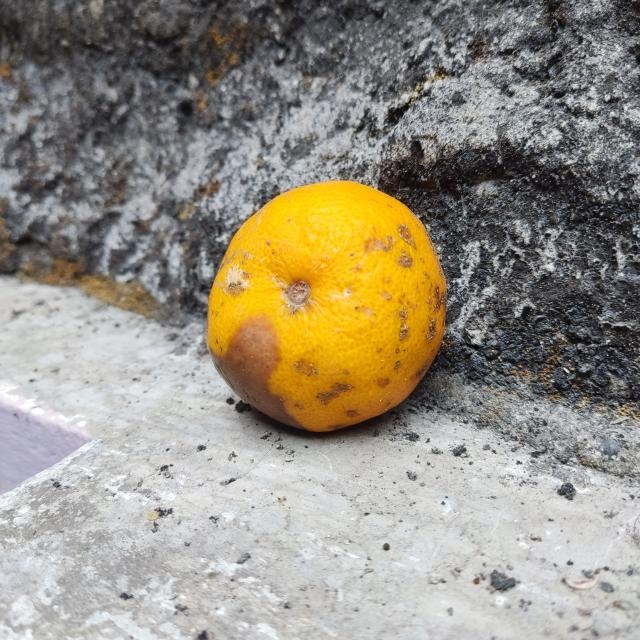agrume: (206, 182, 446, 434)
